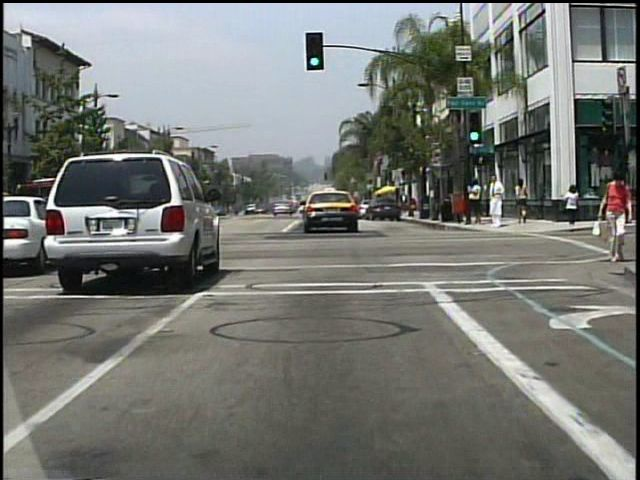person: (594, 171, 634, 262), (605, 171, 627, 234), (485, 175, 506, 228), (565, 181, 583, 231), (515, 177, 531, 225), (470, 174, 483, 226), (401, 191, 410, 215)
